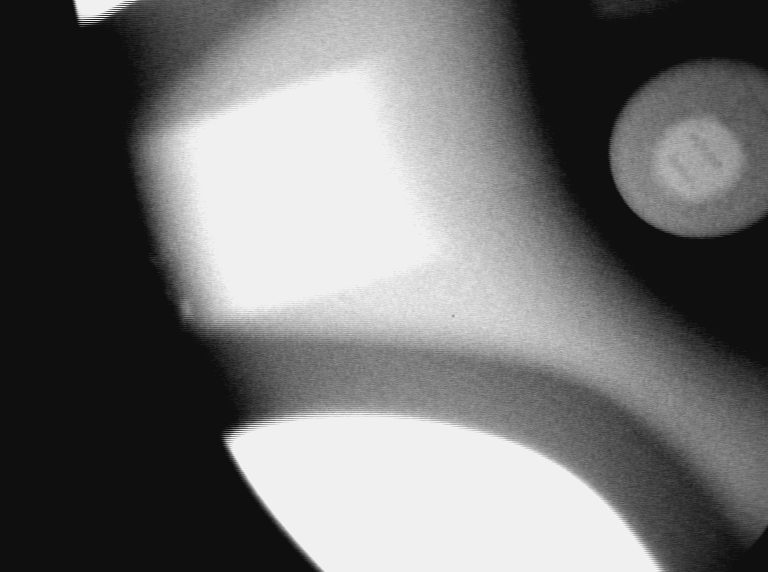defect: (151, 246, 180, 271)
